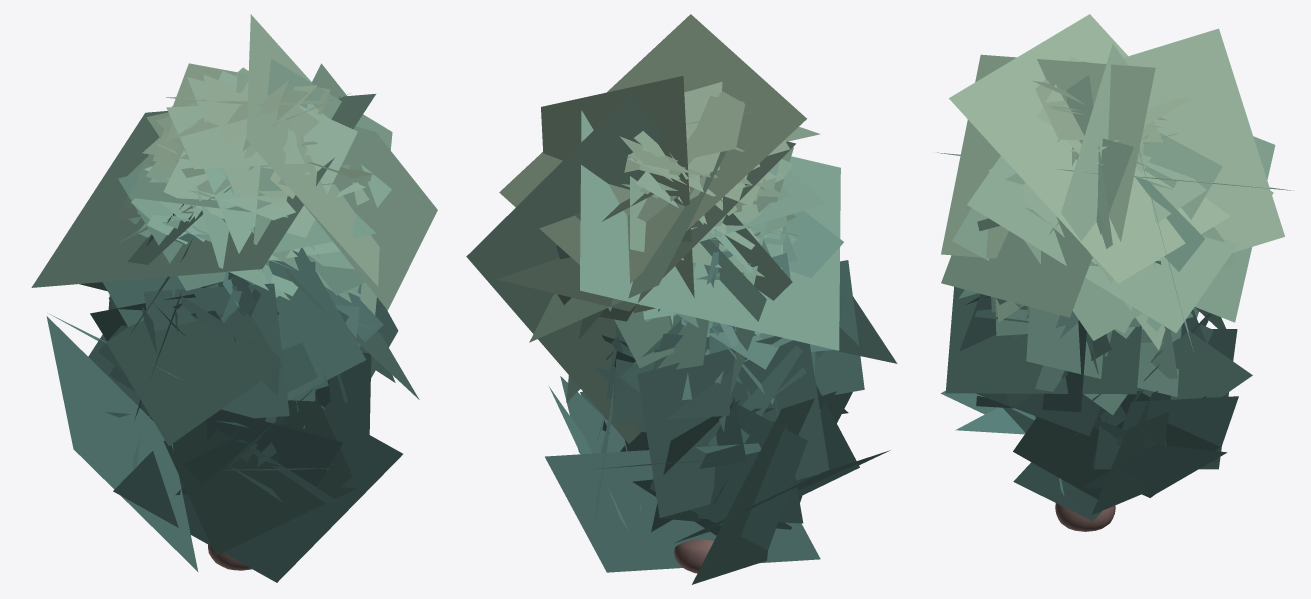
Rendered from yew_v1.glb.
3 views of the same model, side by side, from view 1: azimuth 30°, elevation 25°; view 2: azimuth 150°, elevation 25°; view 3: azimuth 270°, elevation 25° (orthographic). The views are drawn at different scales.
Visible parts, largest first — view 1: far, near; view 2: far, near; view 3: far, near.
Boxes of the visible parts, left/top/right/bottom form: far: left=31, top=14, right=437, bottom=582; near: left=79, top=63, right=395, bottom=570; far: left=466, top=14, right=897, bottom=584; near: left=549, top=82, right=864, bottom=573; far: left=934, top=14, right=1293, bottom=414; near: left=940, top=56, right=1252, bottom=531.
Bounding box in the file's own units: 8.65 × 12 × 7.99.
